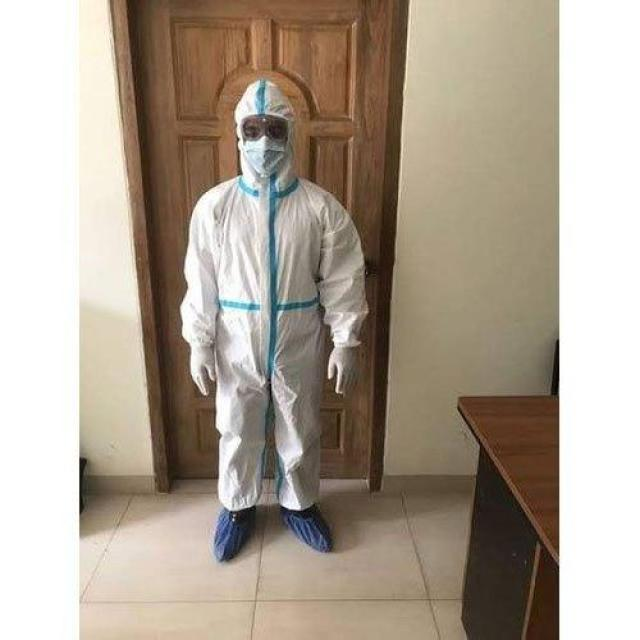Coverall: (176, 75, 382, 565)
Gloves: (324, 342, 360, 398), (186, 344, 222, 397)
Mask: (244, 133, 286, 168)
